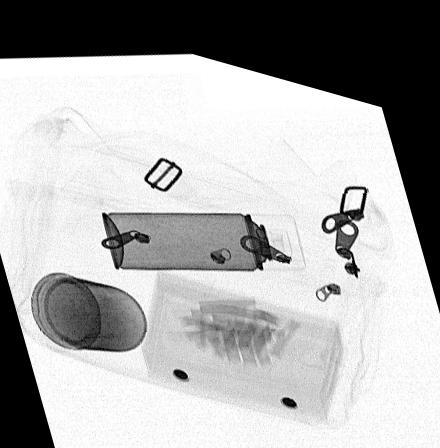Sprayer: (100, 197, 305, 262)
